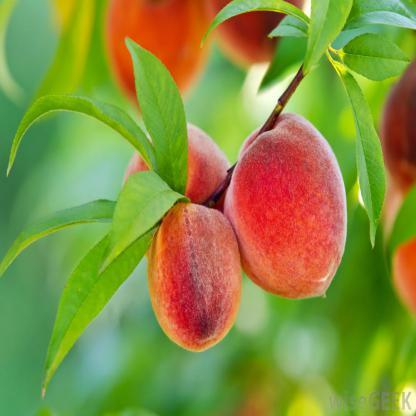Peach leaf: (38, 216, 162, 402), (8, 86, 156, 188), (328, 52, 388, 258), (0, 188, 119, 288), (125, 34, 189, 192), (98, 174, 192, 272), (334, 33, 413, 84)
